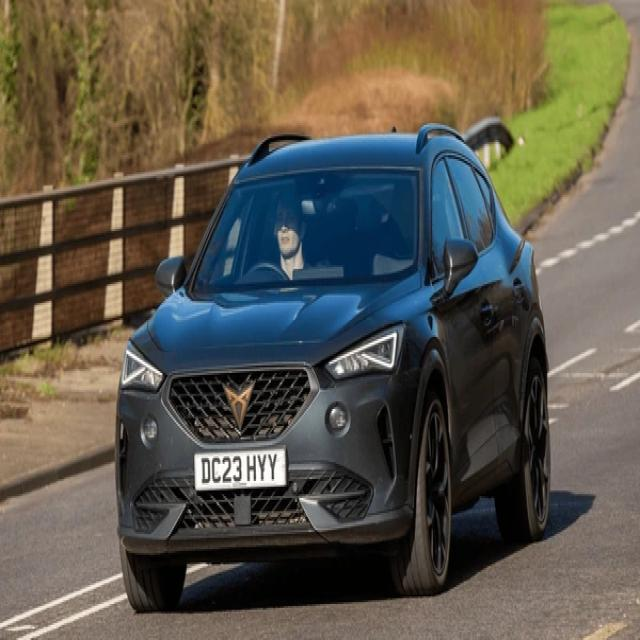cupra: (222, 380, 255, 430)
